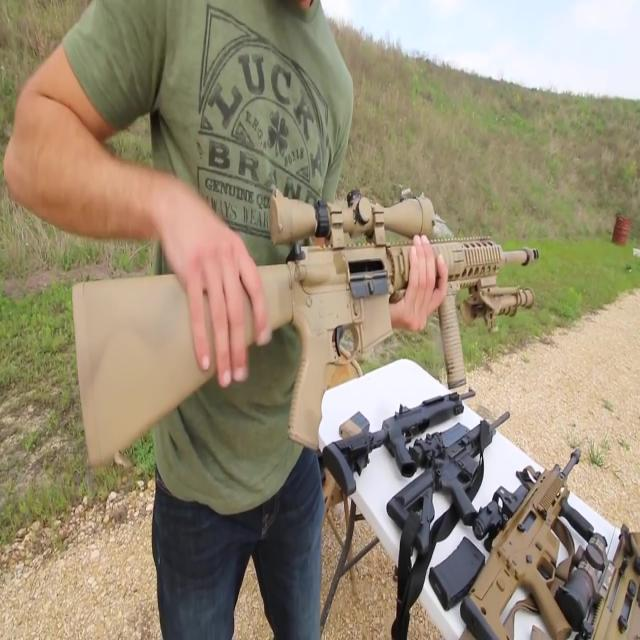Weapon: (54, 169, 553, 473), (313, 307, 640, 640)
